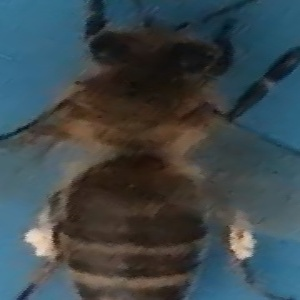bee: (10, 12, 292, 300)
